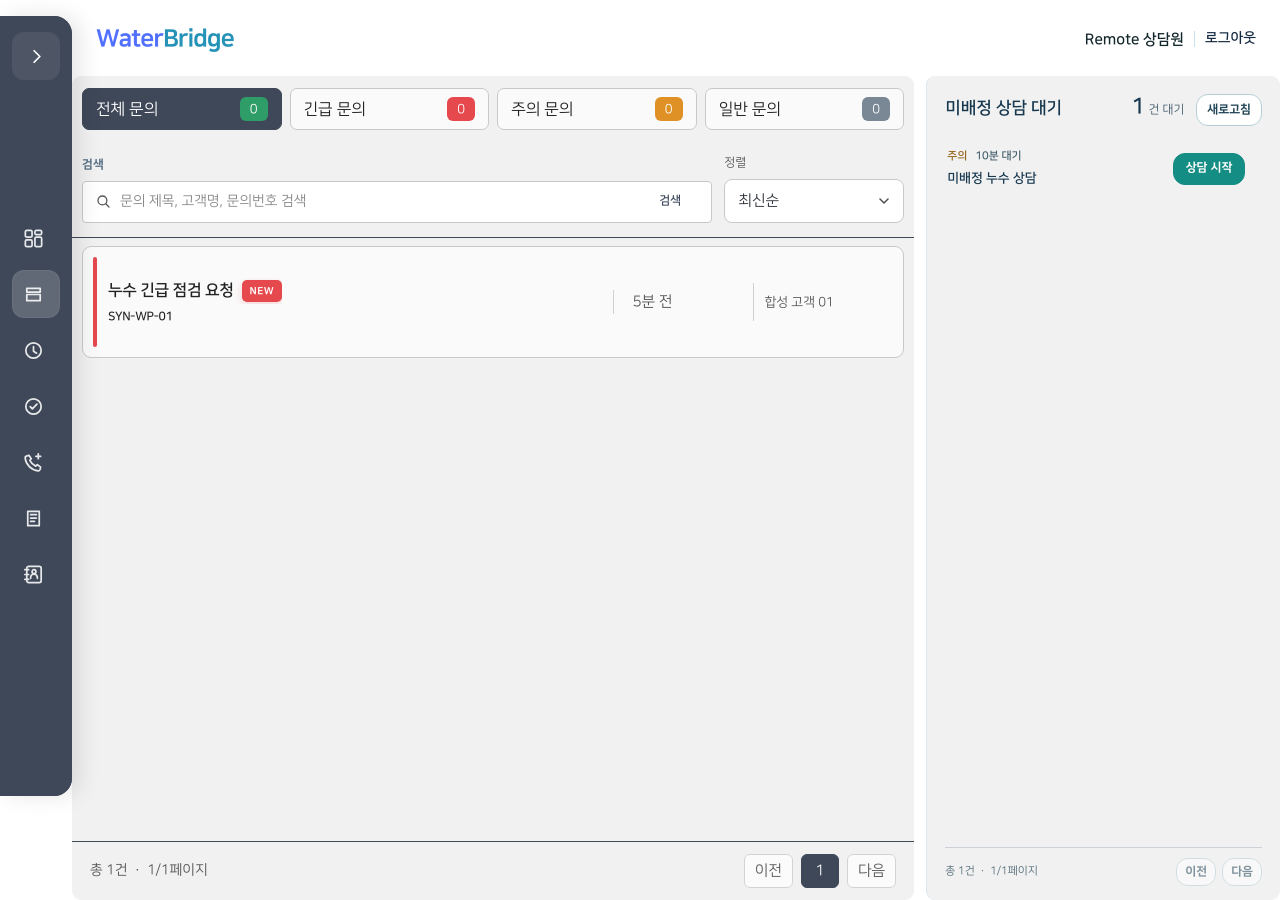
상담사 Remote 첫 상세 패널 경로 › 미배정 상담을 가져오면 내 목록을 갱신하고 그 문의 상세를 연다
Click the button with aria-label "미배정 누수 상담 상담 시작".
click(1209, 169)  # box top-left (1173, 153), bottom-right (1245, 185)
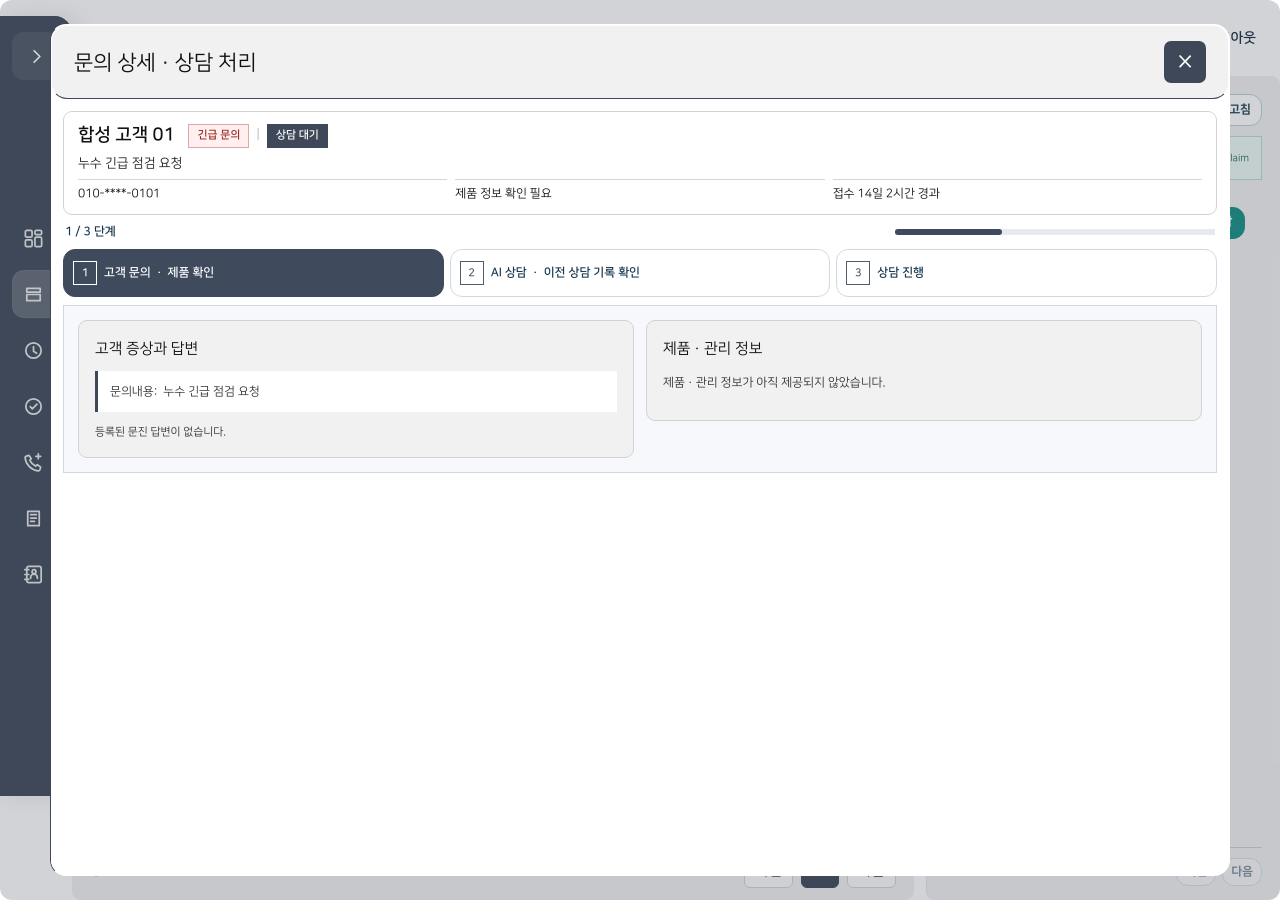
expect the dialog is shown: met
